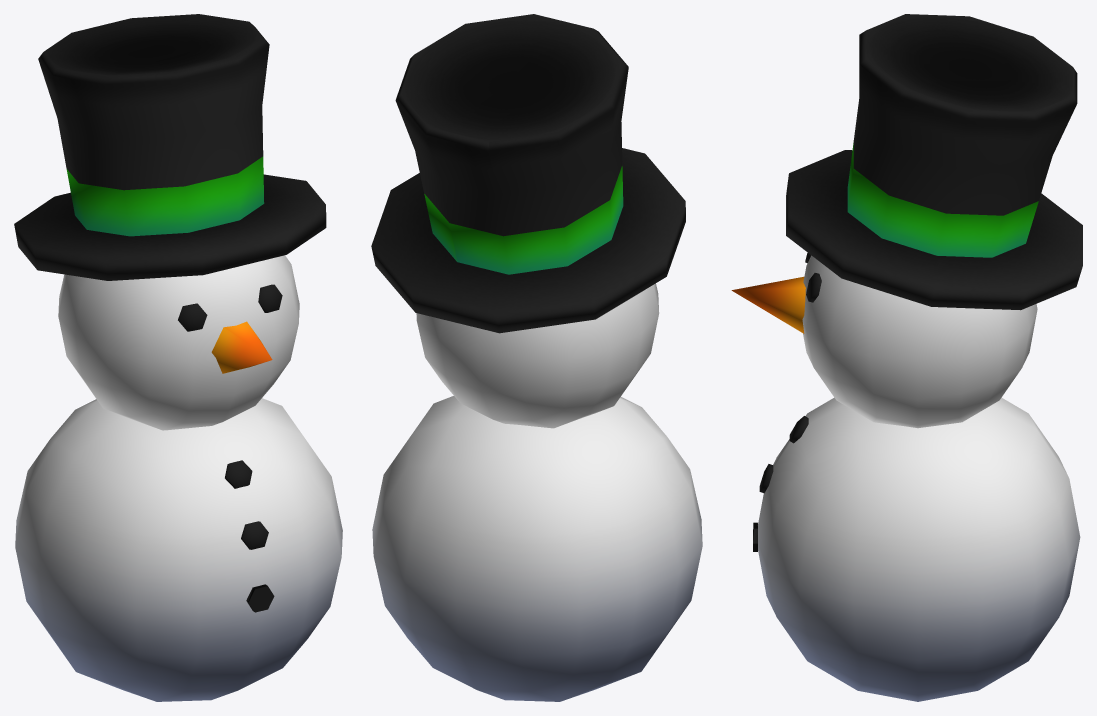
The model's file is ykidaruma_01.fbx.
3 views of the same model, side by side, from view 1: azimuth 30°, elevation 25°; view 2: azimuth 150°, elevation 25°; view 3: azimuth 270°, elevation 25° (orthographic).
Visible parts, largest first — view 1: pCube10, pCylinder5, pCube11, pSphere1, pCylinder21, pCylinder22, pCylinder23, pCylinder24, pCylinder20; view 2: pCube10, pCylinder5, pCube11; view 3: pCube10, pCylinder5, pCube11, pSphere1.
Boxes of the visible parts, x1,y1,x2,y2 form: pCube10: [15, 398, 342, 701]; pCylinder5: [14, 14, 326, 280]; pCube11: [58, 255, 299, 430]; pSphere1: [211, 321, 272, 373]; pCylinder21: [178, 303, 207, 331]; pCylinder22: [241, 521, 268, 549]; pCylinder23: [225, 460, 252, 488]; pCylinder24: [246, 584, 274, 612]; pCylinder20: [258, 284, 282, 312]; pCube10: [372, 396, 702, 701]; pCylinder5: [371, 14, 685, 333]; pCube11: [416, 283, 659, 428]; pCube10: [758, 397, 1080, 701]; pCylinder5: [786, 14, 1082, 310]; pCube11: [802, 255, 1037, 428]; pSphere1: [731, 276, 805, 333].
Size of the model in its own units: 0.9338 by 2.03 by 1.01.
